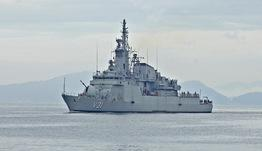warship: (58, 17, 214, 115)
